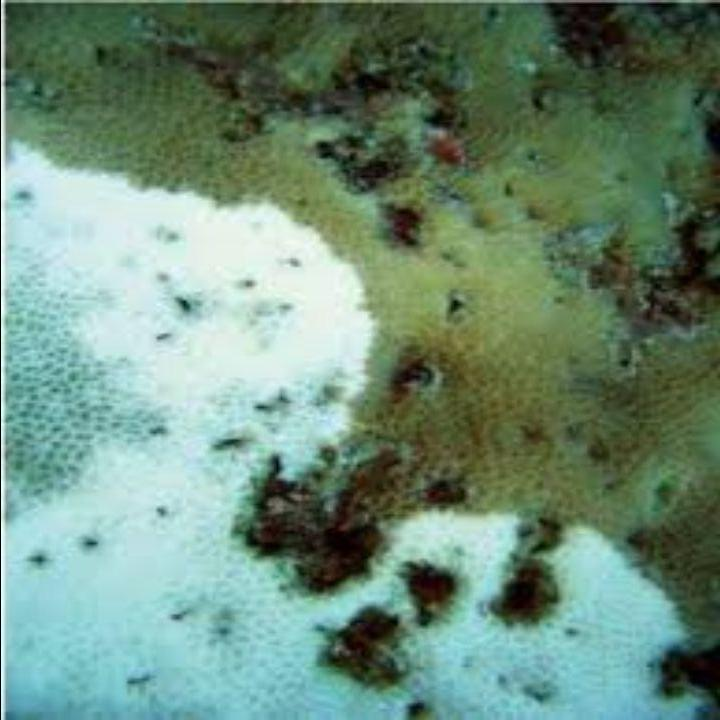Bleached-disease: (4, 145, 696, 720)
